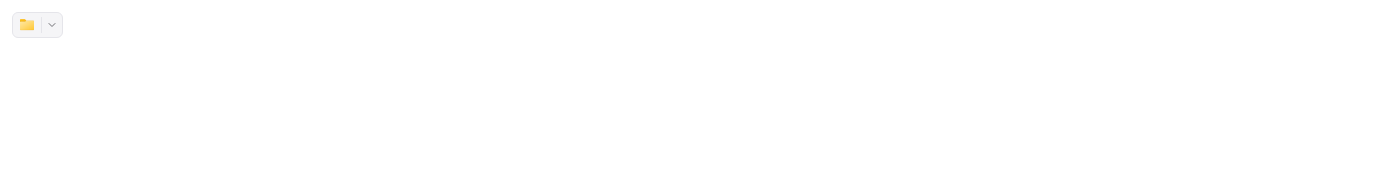
Test case: 在…中打开（拆分按钮） › 右半边才展开菜单，默认项带标记且按会话打开
Later steps or results of the test are not shown.
Expected: the button named "用 文件资源管理器 打开" is enabled, x1=13 y1=13 x2=41 y2=37
What coordinates should you click on to do the following:
click the button named "选择打开方式"
I would click on:
 (52, 25)
Its box is x1=42 y1=15 x2=62 y2=35.
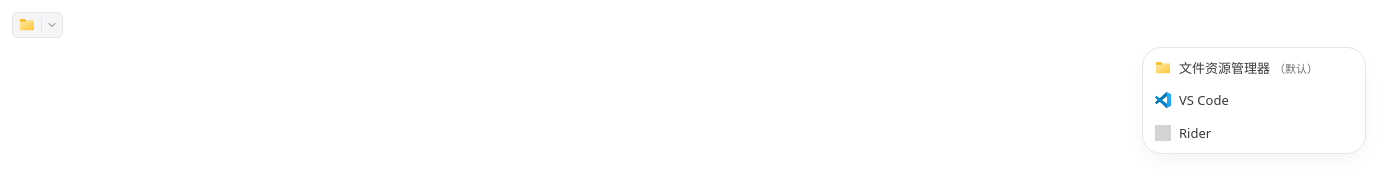
Result: the menu item "文件资源管理器（默认）" is shown at x1=1147 y1=52 x2=1361 y2=84
